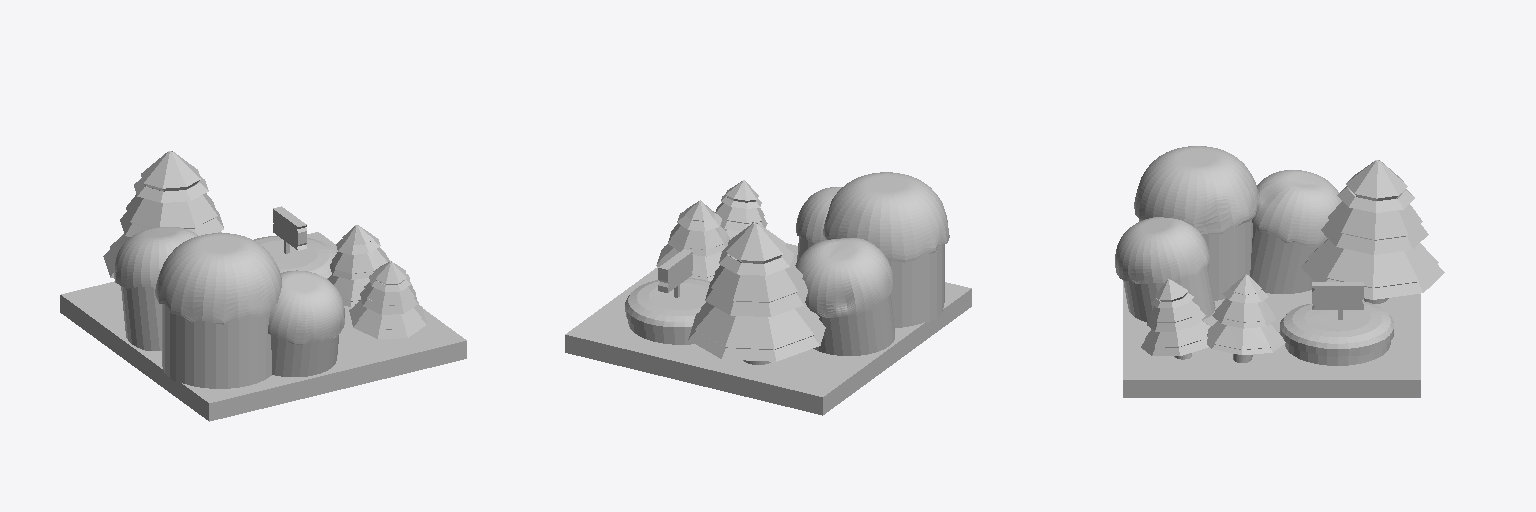
The model's file is entornoNieve.obj.
3 renders of one model, left to right at view 1: azimuth 30°, elevation 25°; view 2: azimuth 150°, elevation 25°; view 3: azimuth 270°, elevation 25°, orthographic.
Visible parts, largest first — view 1: Base, Cylinder.007, Cylinder.004, Cylinder.008, Cylinder.011, Cylinder.009, Cylinder.013, Cylinder.005, Cylinder.006, Cylinder.012, Cylinder.010, Cylinder (+3 smaller); view 2: Base, Cylinder.007, Cylinder.011, Cylinder.009, Cylinder, Cylinder.004, Cylinder.010, Cylinder.005, Cylinder.012, Cylinder.008, Cylinder.013, Letrero (+3 smaller); view 3: Base, Cylinder.007, Cylinder.011, Cylinder.008, Cylinder.009, Cylinder.010, Cylinder, Cylinder.005, Cylinder.012, Cylinder.004, Cylinder.013, Cylinder.006 (+4 smaller).
Boxes of the visible parts, box(x1,y1,x2,y2) form: Base: box(60, 232, 466, 421); Cylinder.007: box(155, 233, 281, 324); Cylinder.004: box(162, 304, 271, 388); Cylinder.008: box(268, 270, 344, 344); Cylinder.011: box(110, 151, 221, 261); Cylinder.009: box(114, 227, 197, 288); Cylinder.013: box(355, 261, 421, 329); Cylinder.005: box(121, 286, 161, 350); Cylinder.006: box(271, 335, 338, 376); Cylinder.012: box(328, 225, 387, 301); Cylinder.010: box(254, 236, 336, 279); Cylinder: box(103, 176, 223, 277); Base: box(565, 243, 971, 415); Cylinder.007: box(823, 172, 949, 262); Cylinder.011: box(695, 222, 819, 349); Cylinder.009: box(795, 238, 893, 317); Cylinder: box(688, 247, 825, 361); Cylinder.004: box(889, 244, 944, 327); Cylinder.010: box(625, 278, 709, 333); Cylinder.005: box(813, 294, 894, 355); Cylinder.012: box(660, 200, 727, 277); Cylinder.008: box(796, 187, 841, 242); Cylinder.013: box(715, 180, 764, 239); Letrero: box(658, 249, 692, 297); Base: box(1123, 282, 1420, 397); Cylinder.007: box(1134, 146, 1257, 233); Cylinder.011: box(1308, 160, 1438, 287); Cylinder.008: box(1115, 217, 1209, 283); Cylinder.009: box(1252, 170, 1341, 246); Cylinder.010: box(1279, 301, 1393, 356); Cylinder: box(1301, 186, 1444, 299); Cylinder.005: box(1250, 225, 1320, 293); Cylinder.012: box(1207, 274, 1282, 349); Cylinder.004: box(1139, 219, 1252, 300); Cylinder.013: box(1145, 279, 1209, 347); Cylinder.006: box(1123, 265, 1215, 322).
Size of the model in its own units: 11.74 by 6.57 by 12.65.